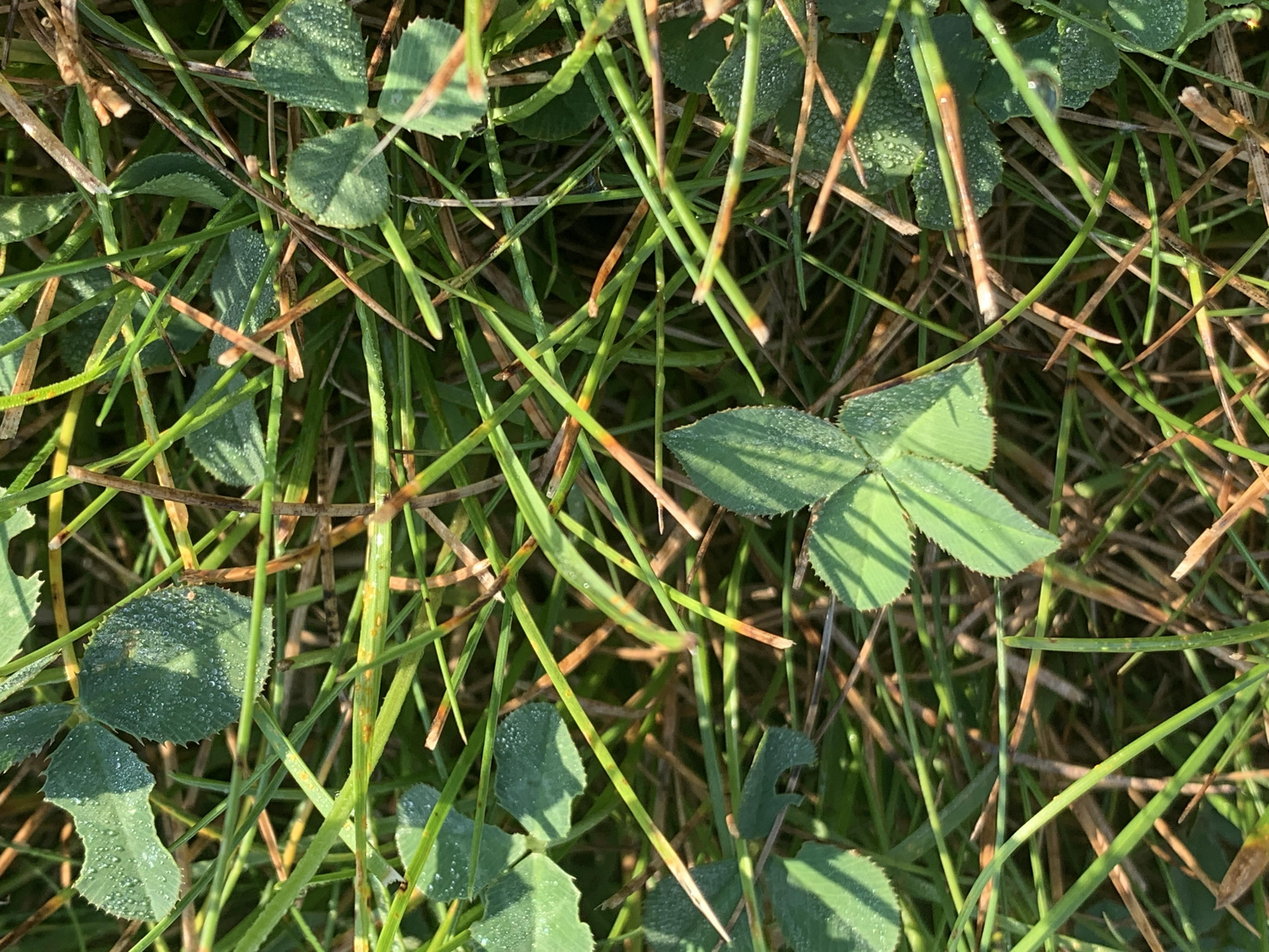4-Leaf-Clovers: (458, 490, 784, 788)
